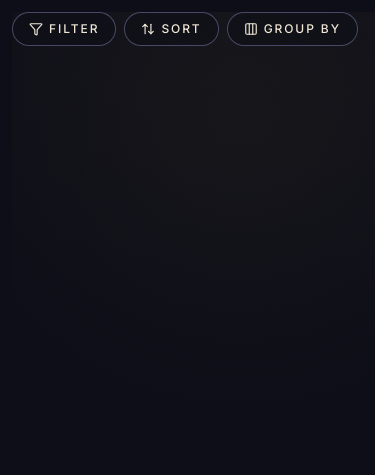
Test: BoardToolbar › only one panel is open at a time
# Open filter
Step 1. Click the button "Filter" → (64,29), box top-left (12, 12), bottom-right (116, 46)
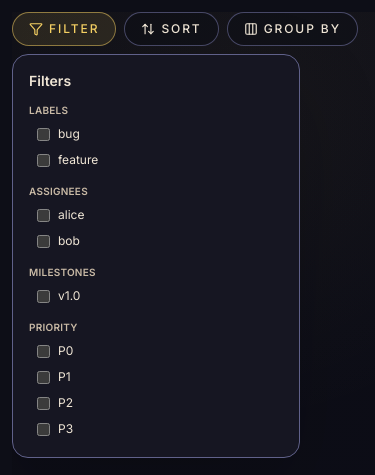
Expected: the text "bug" is shown, top-left (58, 126), bottom-right (80, 142)
# Open sort — should close filter
Step 2. Click the button "Sort" → (172,29), box top-left (124, 12), bottom-right (219, 46)
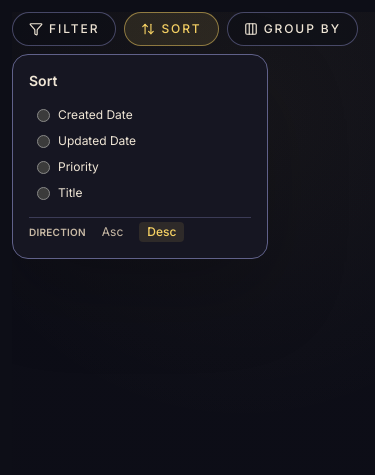
Expected: the text "bug" is gone
Expected: the text "Created Date" is shown, top-left (58, 107), bottom-right (133, 123)
